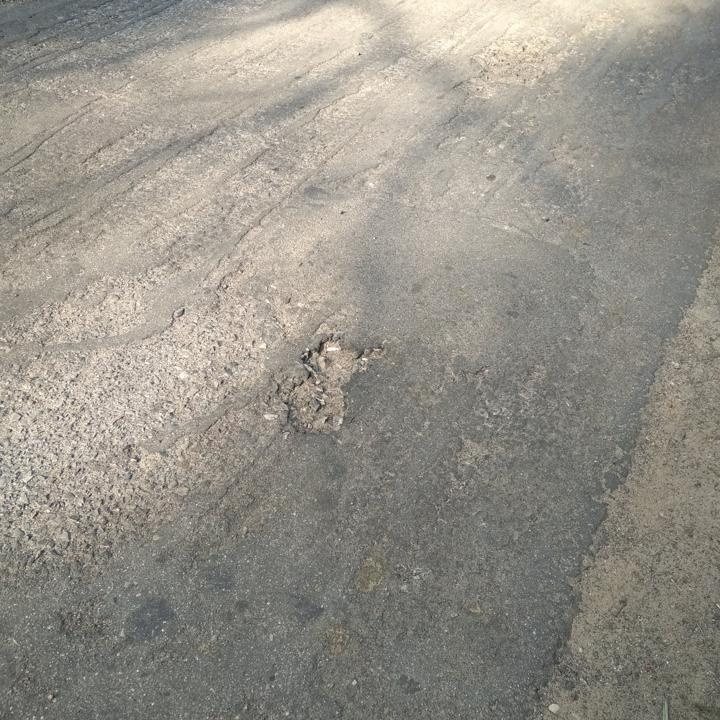pothole: (279, 331, 391, 437), (449, 33, 567, 104)
